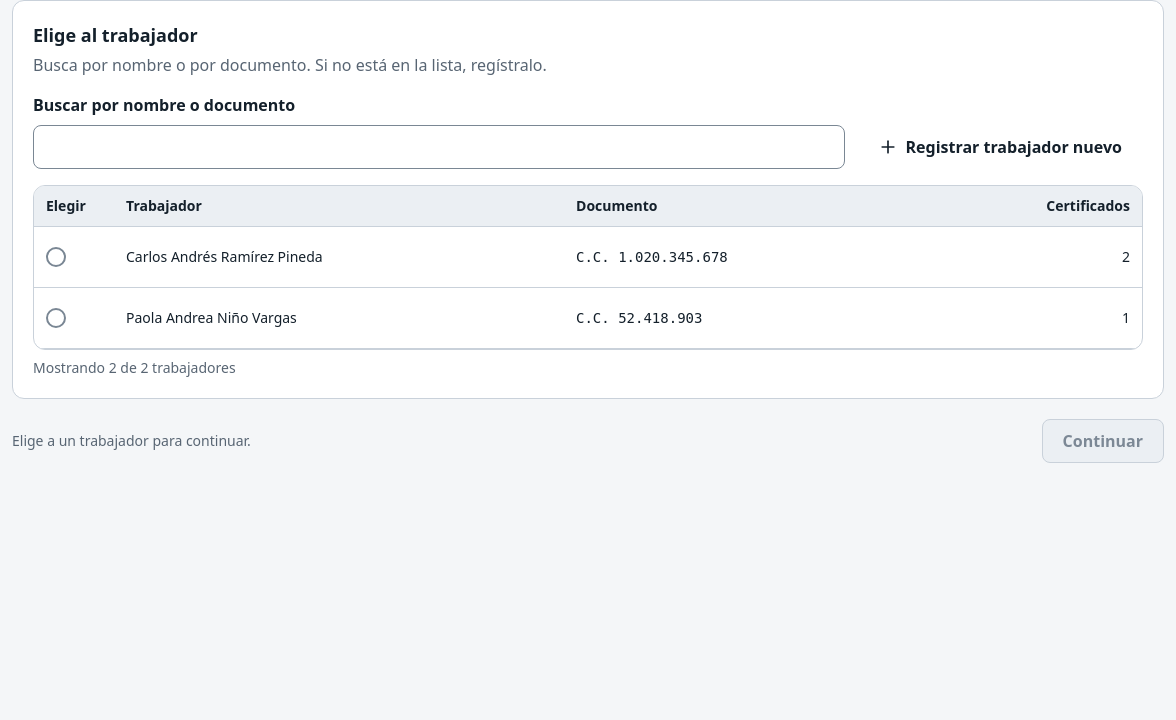
it: WorkerStep › shows an empty result with a way to clear the search
The width and height of the screenshot is (1176, 720).
Type "zzz" into the search field labelled "Buscar por nombre o documento" at (439, 147), box x1=33 y1=125 x2=844 y2=169
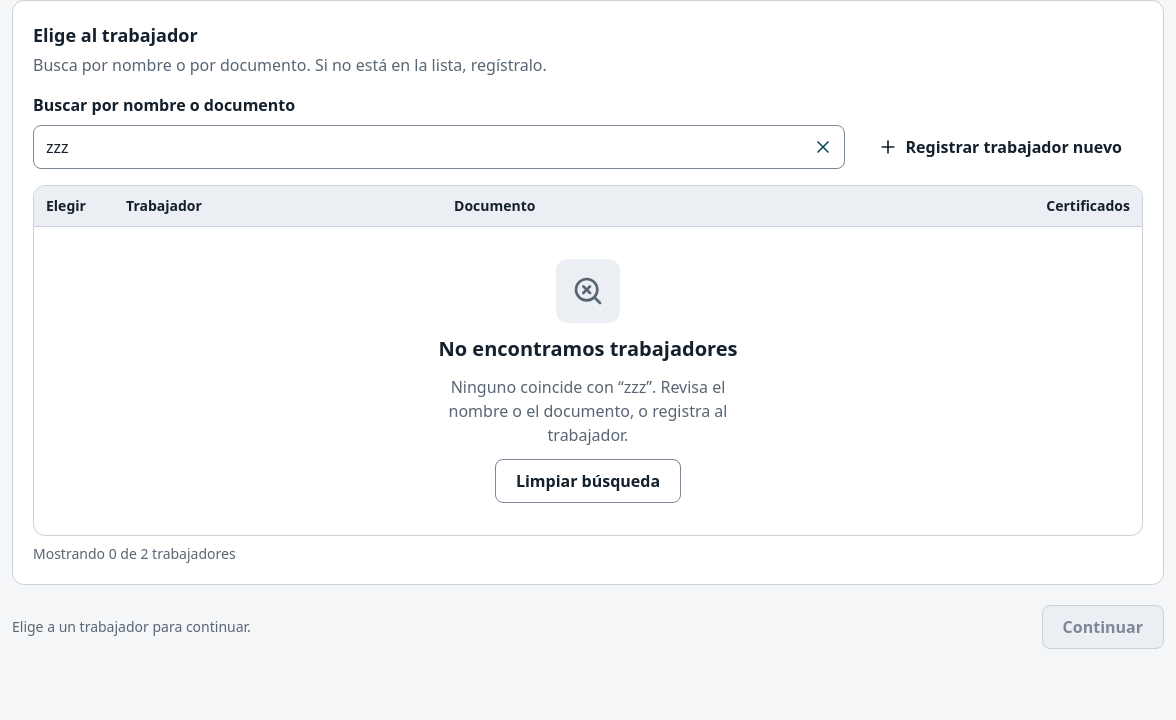
Now the heading "No encontramos trabajadores" is shown, box x1=438 y1=334 x2=738 y2=362
Click the button "Limpiar búsqueda" at (588, 480), box x1=495 y1=458 x2=681 y2=502
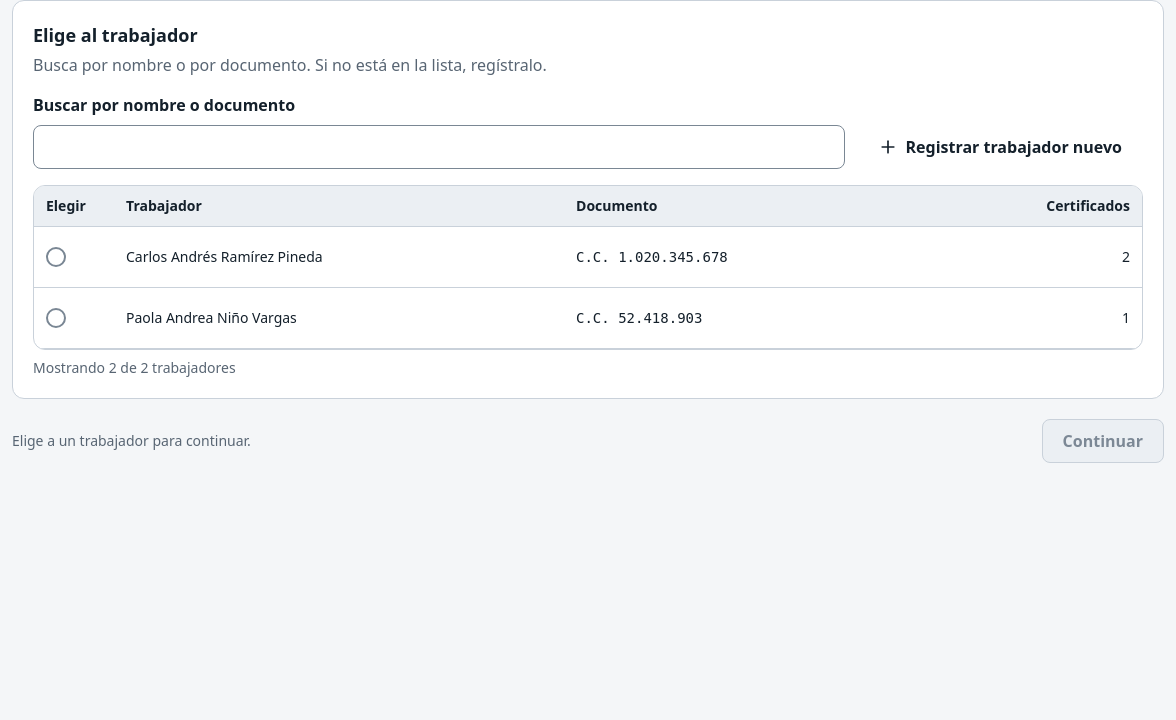
Now the text "Carlos Andrés Ramírez Pineda" is shown, box x1=114 y1=226 x2=564 y2=287
